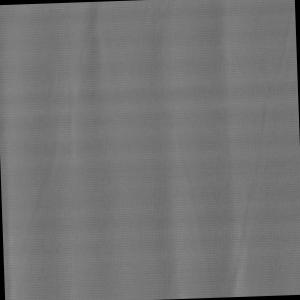Wrinkle: (1, 1, 256, 300)
